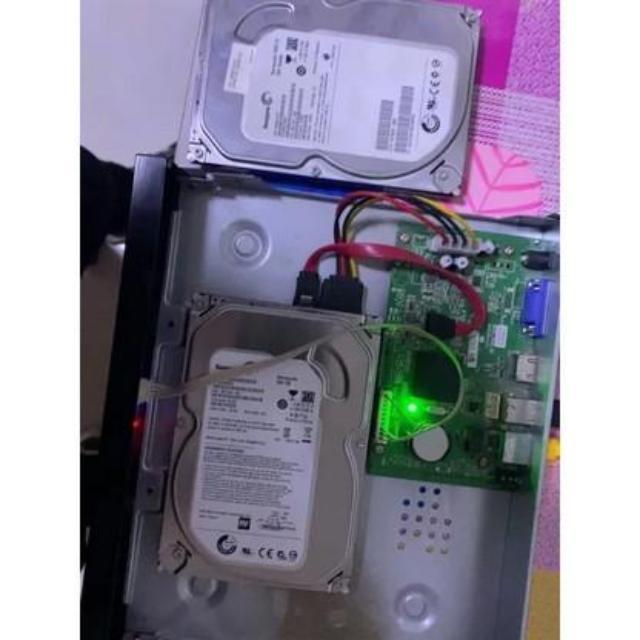DISK: (154, 282, 386, 604), (184, 0, 476, 194)
